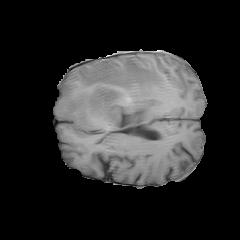glioma: (66, 55, 167, 127)
